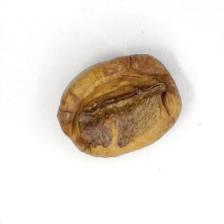NG: (70, 86, 154, 150)
